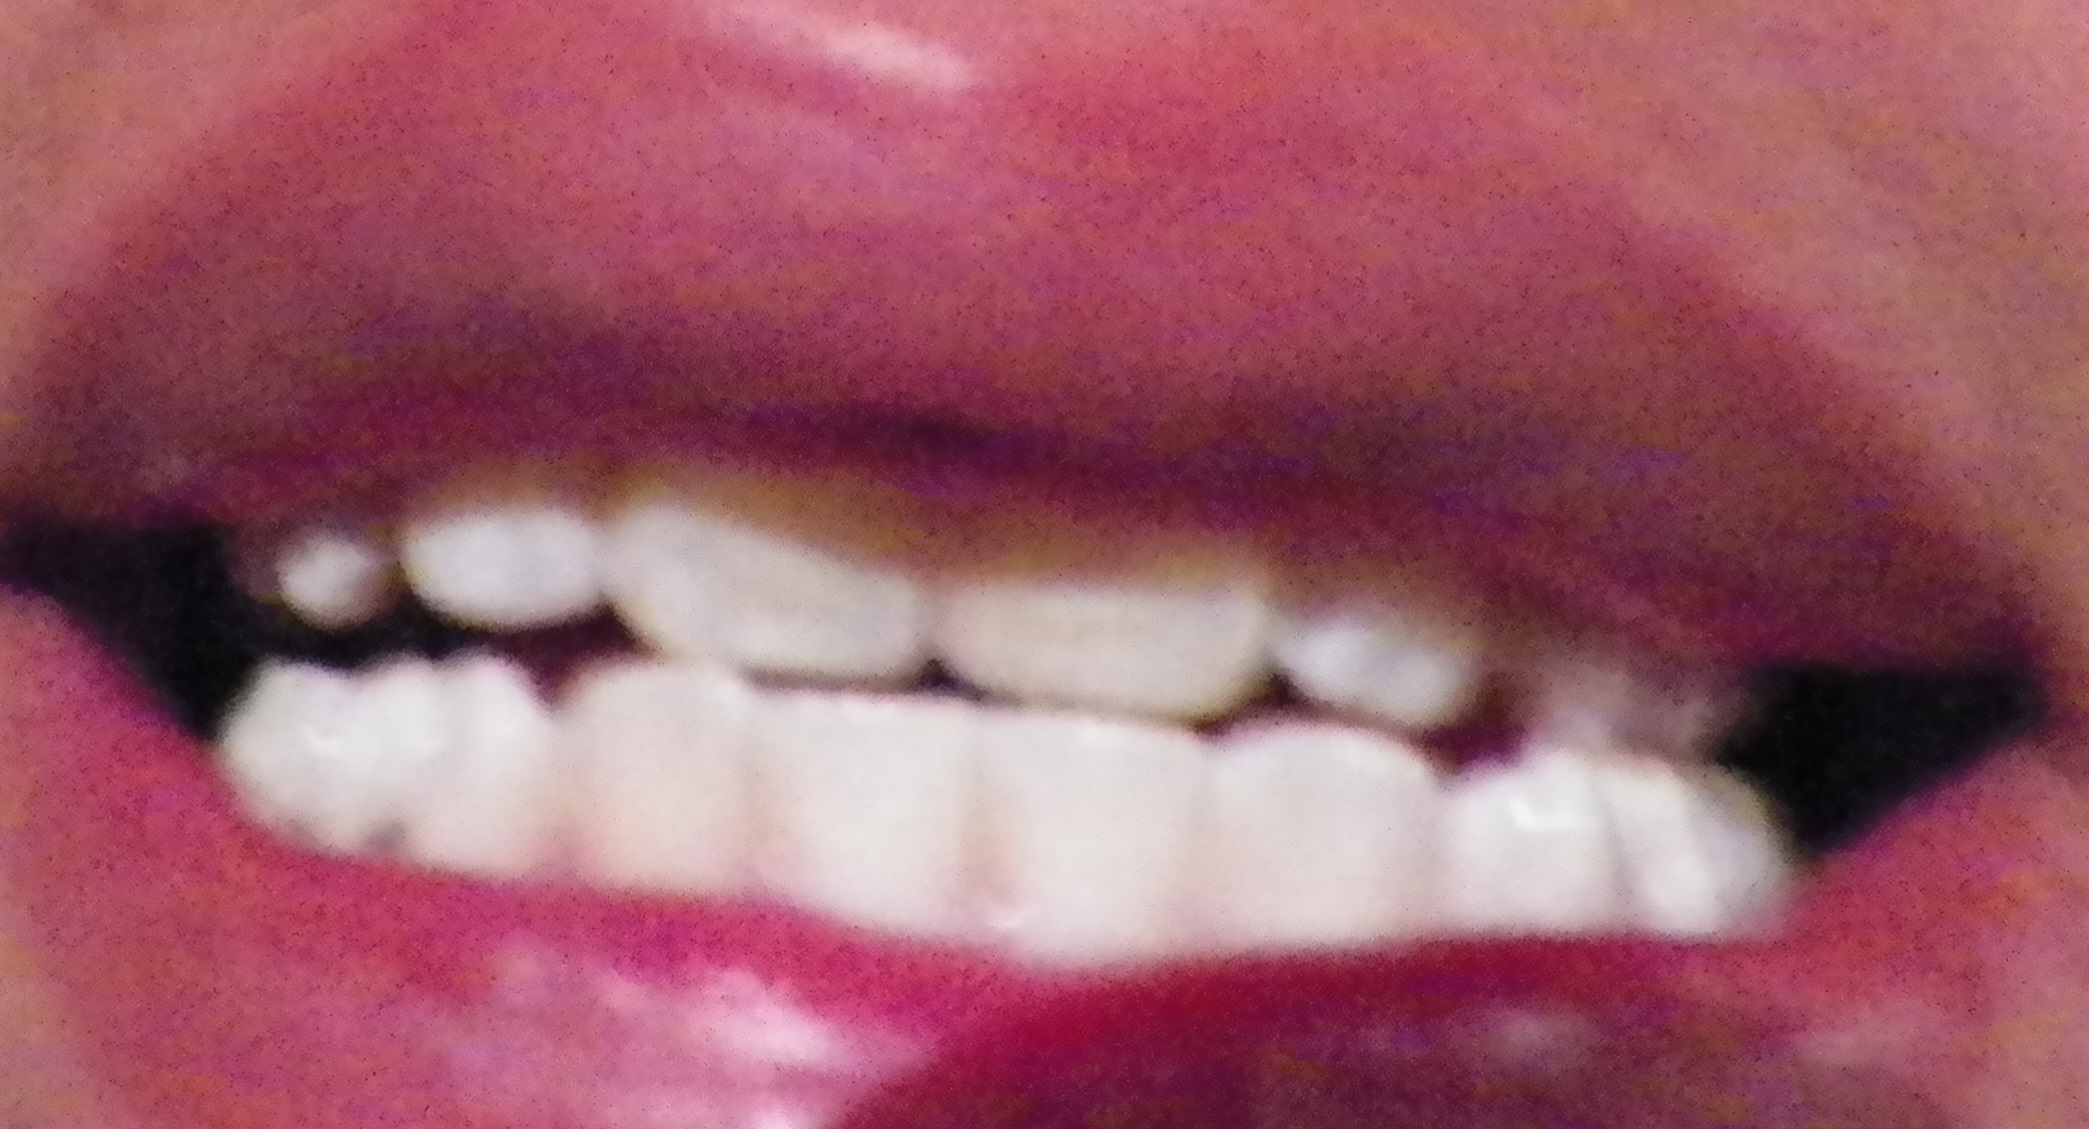boca: (183, 469, 1825, 950)
